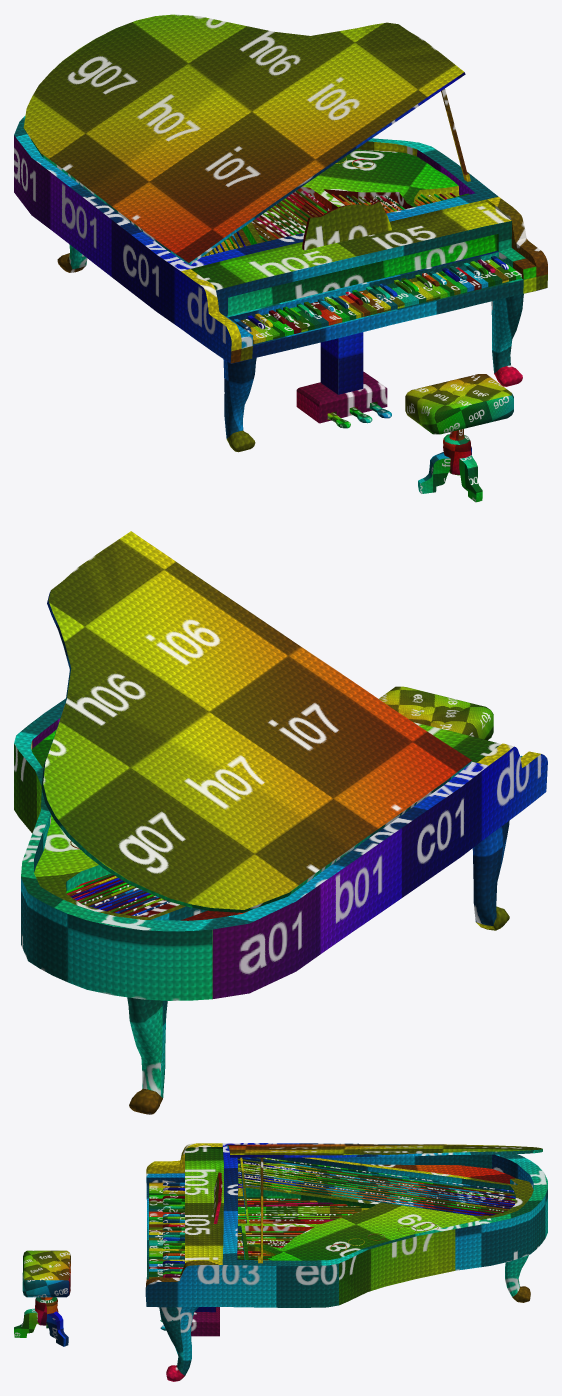
File: Piano UV.fbx
The picture shows the model from 3 angles, top to bottom: view 1: azimuth 30°, elevation 25°; view 2: azimuth 150°, elevation 25°; view 3: azimuth 270°, elevation 25°; orthographic projection. The views are drawn at different scales.
Parts seen in each view (by area): view 1: Piano_Lid, Piano_Body, Piano_Bench, Piano_bar_inside, Piano_White_Keys, Piano_Black_Keys, Piano_Music_Stand1, Piano_Strings, Elephant_Piano_Leg3, Elephant_Piano_Leg2; view 2: Piano_Lid, Piano_Body, Piano_bar_inside, Elephant_Piano_Leg4, Piano_Bench, Elephant_Piano_Leg3, Piano_Strings; view 3: Piano_Body, Piano_Strings, Piano_bar_inside, Piano_Lid, Piano_Bench, Piano_White_Keys, Piano_Black_Keys, Elephant_Piano_Leg2, Elephant_Piano_Leg4, Piano_Hold_Lid_Stick, Piano_Music_Stand1.
Part boxes in pixels (x1,y1,x2,y2): Piano_Lid: (23,14,465,265); Piano_Body: (14,115,547,423); Piano_Bench: (405,374,513,502); Piano_bar_inside: (242,149,469,244); Piano_White_Keys: (240,257,521,344); Piano_Black_Keys: (233,256,508,332); Piano_Music_Stand1: (302,201,391,250); Piano_Strings: (205,190,455,256); Elephant_Piano_Leg3: (223,357,256,452); Elephant_Piano_Leg2: (491,294,523,386); Piano_Lid: (41,531,472,912); Piano_Body: (14,698,547,1000); Piano_bar_inside: (31,729,207,920); Elephant_Piano_Leg4: (127,997,167,1114); Piano_Bench: (379,686,493,740); Elephant_Piano_Leg3: (472,820,509,930); Piano_Strings: (66,873,170,915); Piano_Body: (145,1143,547,1336); Piano_Strings: (237,1157,515,1260); Piano_bar_inside: (238,1157,533,1260); Piano_Lid: (227,1144,542,1157); Piano_Bench: (14,1250,70,1346); Piano_White_Keys: (149,1182,184,1279); Piano_Black_Keys: (162,1182,184,1277); Elephant_Piano_Leg2: (159,1307,198,1381); Elephant_Piano_Leg4: (505,1255,530,1302); Piano_Hold_Lid_Stick: (258,1157,263,1263); Piano_Music_Stand1: (213,1172,222,1223).
Bounding box in the file's own units: 1.98 × 1.75 × 3.69.
Materials: 1 (1 with a texture image).
